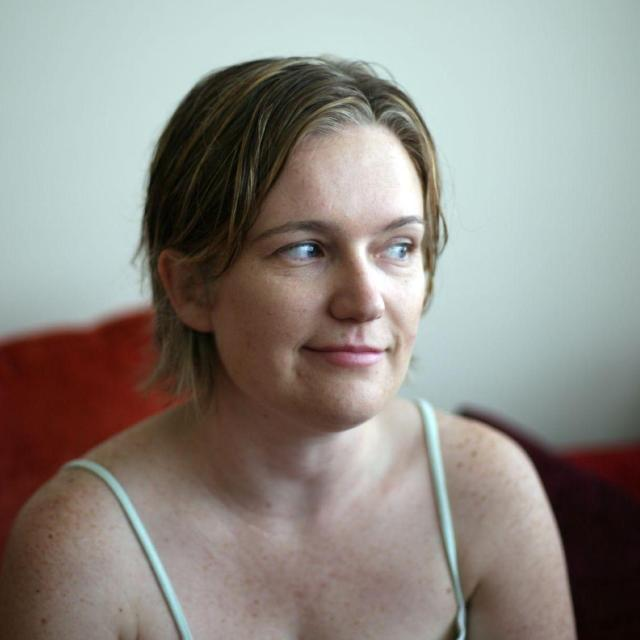no-glass: (271, 232, 418, 268)
